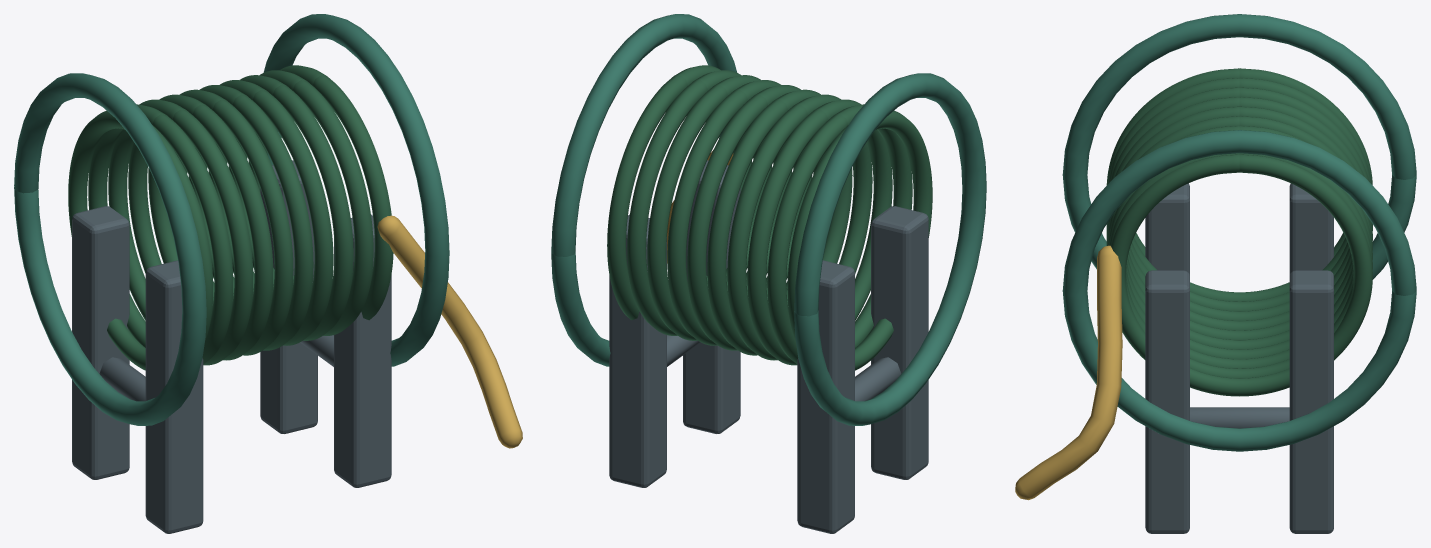
Rendered from hose_reel.glb.
3 renders of one model, left to right at view 1: azimuth 30°, elevation 25°; view 2: azimuth 150°, elevation 25°; view 3: azimuth 270°, elevation 25°, orthographic. The views are drawn at different scales.
Visible parts, largest first — view 1: Circular_flange, Leg, Leg.001, Circular_flange.001, Leg.003, Coiled_hose.002, Coiled_hose.003, Coiled_hose.001, Coiled_hose.004, Coiled_hose.007, Coiled_hose.006, Coiled_hose.008 (+6 smaller); view 2: Circular_flange, Leg.001, Circular_flange.001, Leg, Leg.002, Coiled_hose.002, Coiled_hose.003, Coiled_hose.001, Coiled_hose.004, Coiled_hose.007, Coiled_hose.006, Coiled_hose.008 (+6 smaller); view 3: Circular_flange.001, Circular_flange, Coiled_hose.009, Leg.003, Leg.002, Loose_nozzle, Coiled_hose.001, Coiled_hose.002, Coiled_hose, Coiled_hose.003, Coiled_hose.004, Coiled_hose.005 (+6 smaller).
Part boxes in pixels (x1,y1,x2,y2): Circular_flange: (14,73,206,425); Leg: (72,206,129,479); Leg.001: (145,260,203,533); Circular_flange.001: (263,14,449,366); Leg.003: (334,214,391,487); Coiled_hose.002: (108,99,253,365); Coiled_hose.003: (128,94,273,360); Coiled_hose.001: (88,104,233,364); Coiled_hose.004: (148,89,293,355); Coiled_hose.007: (208,75,353,340); Coiled_hose.006: (188,80,333,345); Coiled_hose.008: (228,70,373,335); Circular_flange: (794,73,986,425); Leg.001: (871,206,928,479); Circular_flange.001: (551,14,736,366); Leg: (797,260,854,533); Leg.002: (609,214,666,487); Coiled_hose.002: (747,99,892,365); Coiled_hose.003: (727,94,872,360); Coiled_hose.001: (767,104,912,363); Coiled_hose.004: (707,89,852,355); Coiled_hose.007: (647,75,791,340); Coiled_hose.006: (667,80,812,345); Coiled_hose.008: (627,70,771,335); Circular_flange.001: (1062,130,1416,451); Circular_flange: (1062,14,1416,279); Coiled_hose.009: (1111,154,1372,396); Leg.003: (1145,270,1189,533); Leg.002: (1289,270,1333,533); Loose_nozzle: (1015,245,1122,500); Coiled_hose.001: (1107,78,1371,311); Coiled_hose.002: (1110,87,1369,320); Coiled_hose: (1106,68,1372,301); Coiled_hose.003: (1114,97,1364,330); Coiled_hose.004: (1106,106,1372,339); Coiled_hose.005: (1106,116,1372,349).
Size of the model in its own units: 0.5242 by 0.658 by 0.5852.
